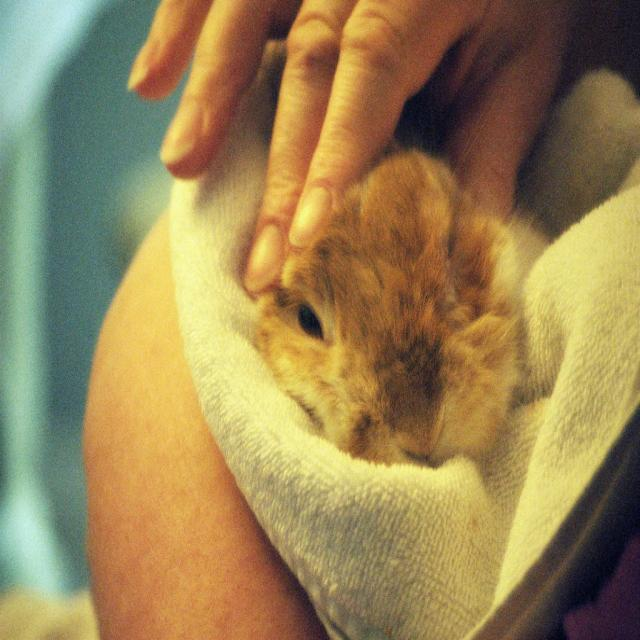rat: (241, 142, 539, 474)
